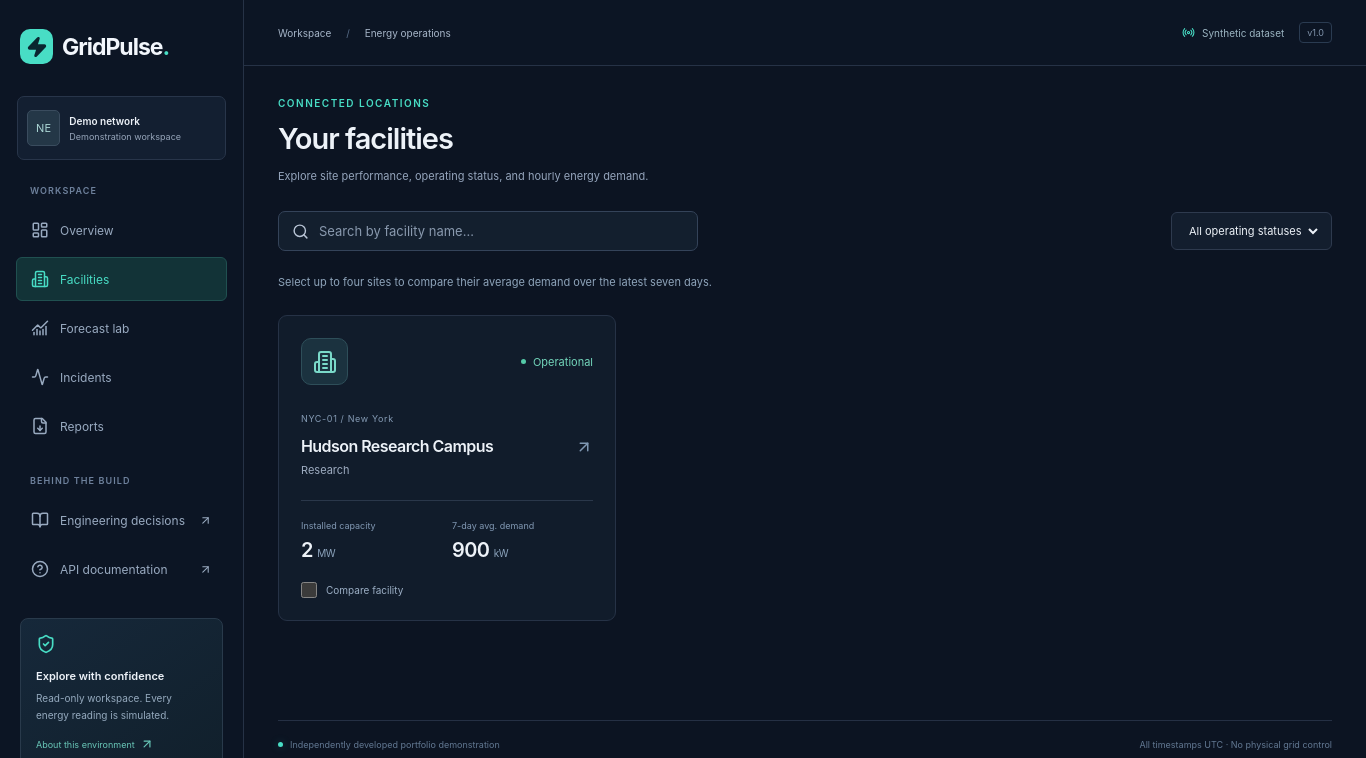
Scenario: Operations interface with mocked API transport › compares selected facilities using API-derived demand
Expected: the heading "Hudson Research Campus" is shown, top-left (301, 434), bottom-right (593, 458)
Click the checkbox labelled "Compare facility" at [309, 590], box top-left (301, 582), bottom-right (317, 598)
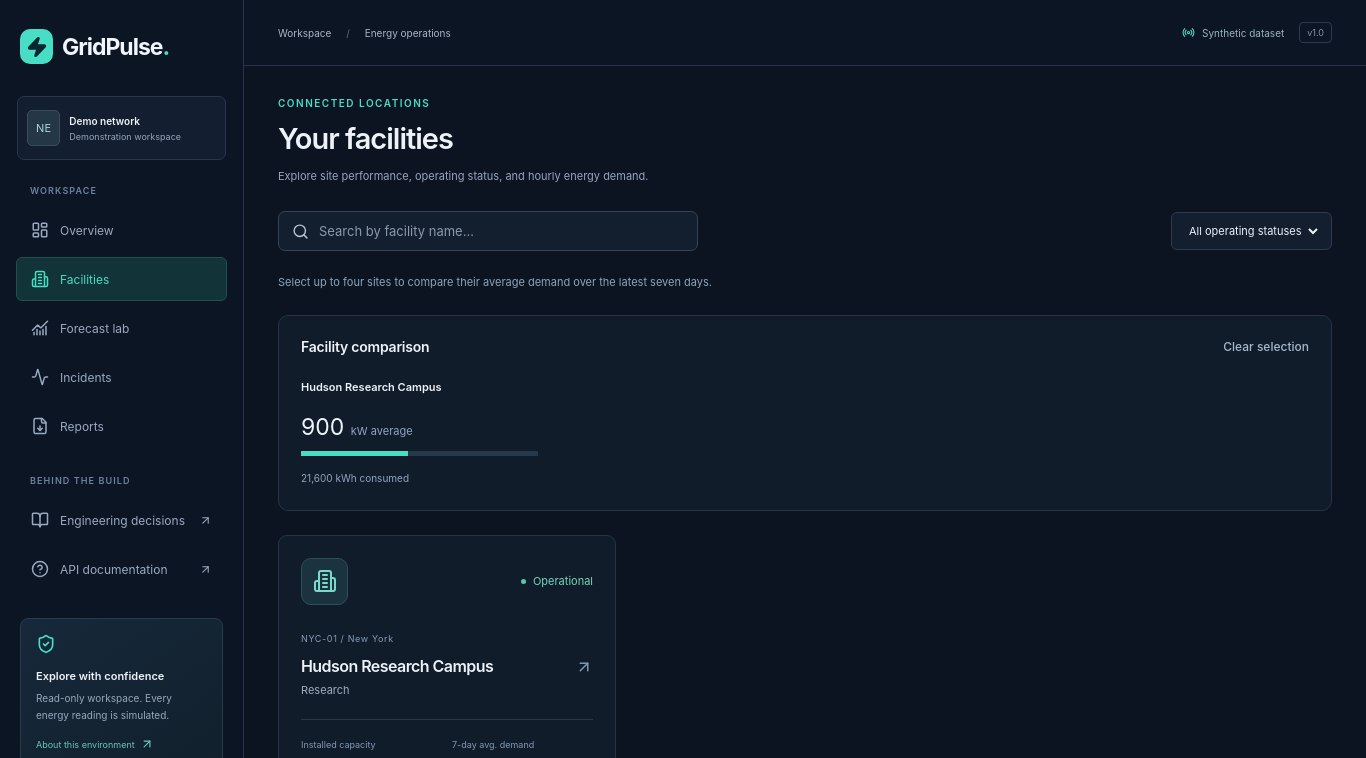
Expected: the heading "Facility comparison" is shown, top-left (301, 338), bottom-right (430, 355)
Expected: the text "kW average" is shown, top-left (351, 424), bottom-right (413, 438)
Click the button "Clear selection" at [1266, 347], box top-left (1223, 339), bottom-right (1309, 354)
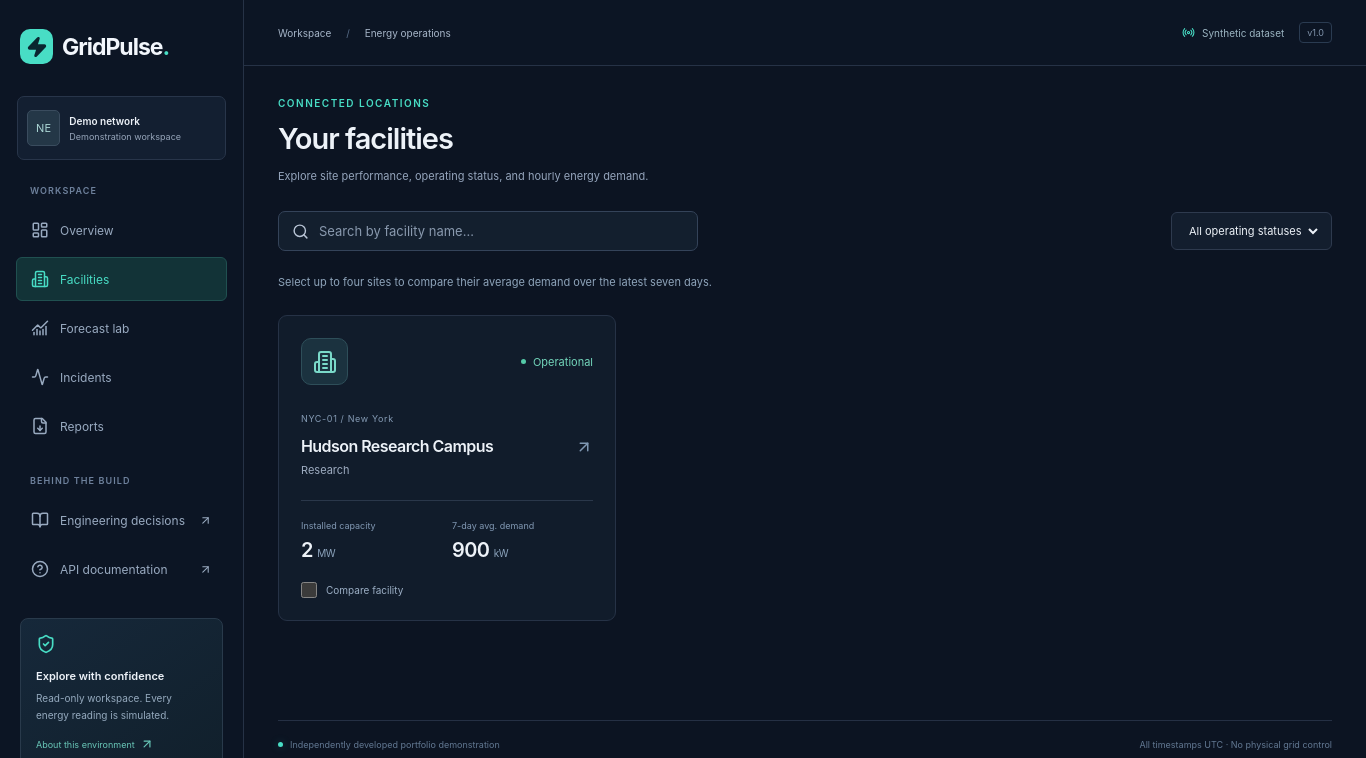
Expected: the heading "Facility comparison" is gone
